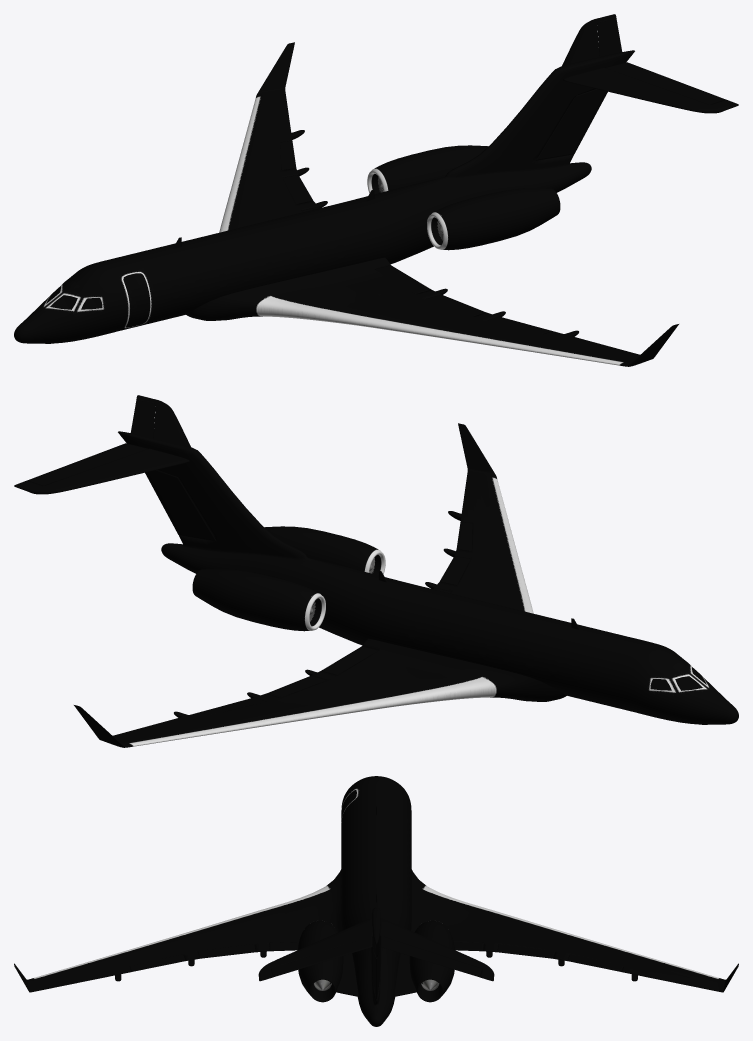
3 renders of one model, top to bottom at view 1: azimuth 30°, elevation 25°; view 2: azimuth 150°, elevation 25°; view 3: azimuth 270°, elevation 25°, orthographic. The views are drawn at different scales.
Visible parts, largest first — view 1: Object_4; view 2: Object_4; view 3: Object_4.
Boxes of the visible parts, x1,y1,x2,y2 form: Object_4: [14, 14, 738, 366]; Object_4: [14, 395, 738, 747]; Object_4: [14, 776, 738, 1026].
Bounding box in the file's own units: 26.22 × 6.26 × 26.4.
1 material, 1 textured.
